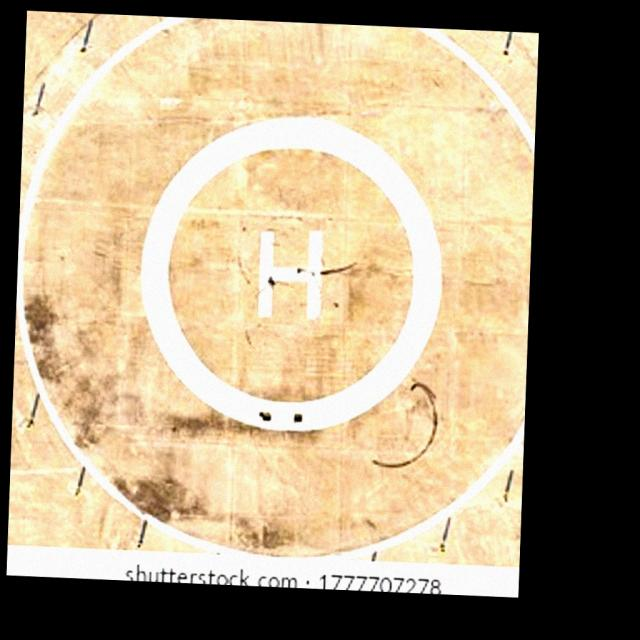helipad: (138, 110, 444, 434)
